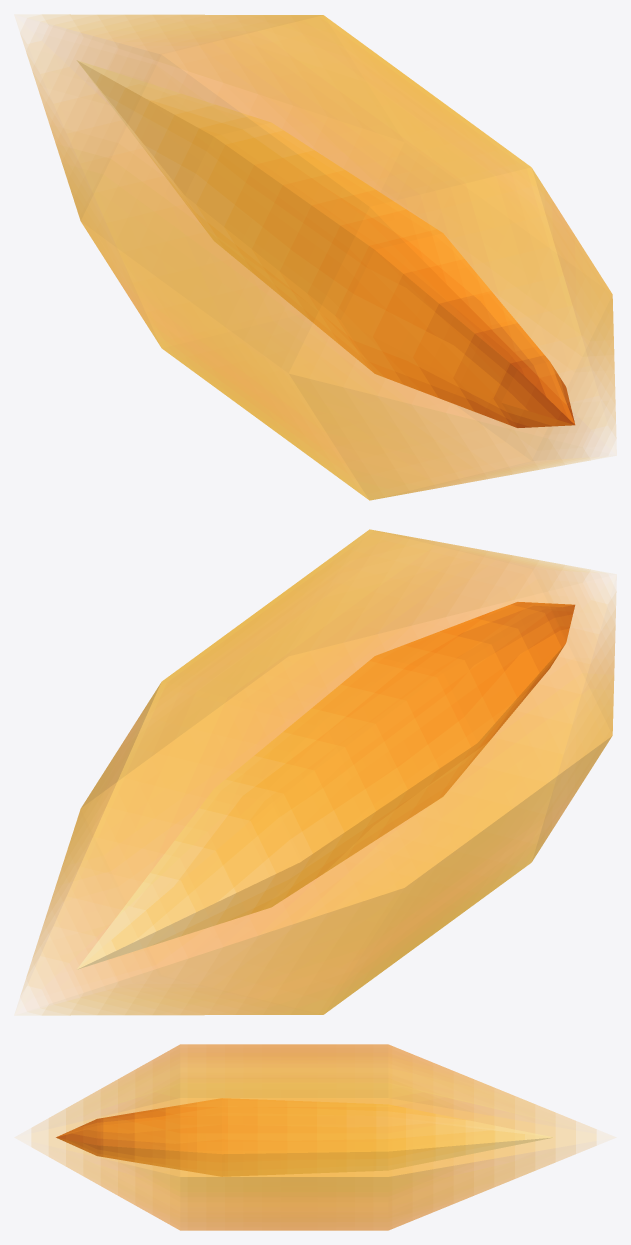
Rendered from spine.glb.
3 renders of one model, top to bottom at view 1: azimuth 30°, elevation 25°; view 2: azimuth 150°, elevation 25°; view 3: azimuth 270°, elevation 25°, orthographic. The views are drawn at different scales.
Visible parts, largest first — view 1: spine; view 2: spine; view 3: spine.
Part boxes in pixels (x1,y1,x2,y2): spine: (20, 14, 616, 500); spine: (20, 529, 616, 1015); spine: (31, 1044, 596, 1230).
Bounding box in the file's own units: 9 × 7.79 × 29.
2 materials, 2 textured.
